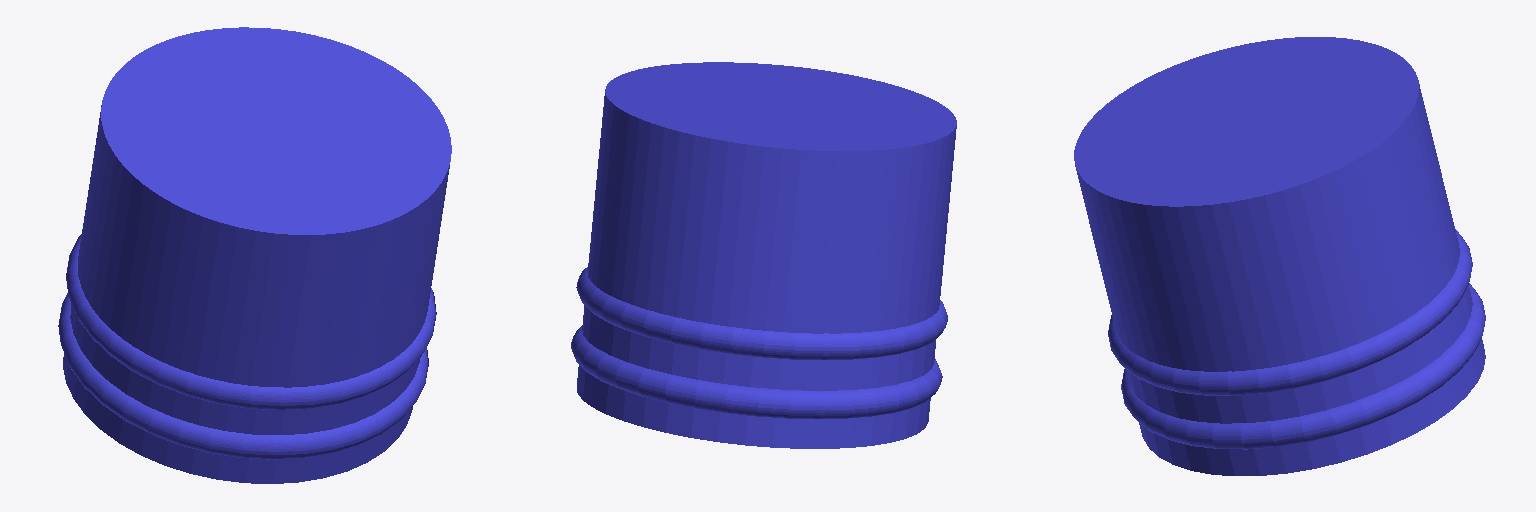
File: bombilla232.obj
3 views of the same model, side by side, from view 1: azimuth 30°, elevation 25°; view 2: azimuth 150°, elevation 25°; view 3: azimuth 270°, elevation 25° (orthographic).
Visible parts, largest first — view 1: Cylinder001, Cylinder004, Cylinder002, Cylinder003, Cylinder006; view 2: Cylinder001, Cylinder003, Cylinder004, Cylinder006, Cylinder002; view 3: Cylinder001, Cylinder004, Cylinder003, Cylinder002, Cylinder006.
Boxes of the visible parts, box(x1,y1,x2,y2) form: Cylinder001: box(78, 27, 451, 387); Cylinder004: box(58, 293, 428, 459); Cylinder002: box(66, 234, 436, 409); Cylinder003: box(70, 303, 420, 434); Cylinder006: box(63, 354, 412, 483); Cylinder001: box(588, 62, 956, 333); Cylinder003: box(582, 305, 935, 390); Cylinder004: box(571, 325, 942, 418); Cylinder006: box(577, 365, 930, 448); Cylinder002: box(576, 267, 947, 359); Cylinder001: box(1074, 37, 1459, 371); Cylinder004: box(1121, 283, 1485, 449); Cylinder003: box(1126, 285, 1472, 423); Cylinder002: box(1108, 229, 1472, 395); Cylinder006: box(1139, 339, 1485, 475).
Bounding box in the file's own units: 72.45 × 73.01 × 79.79.